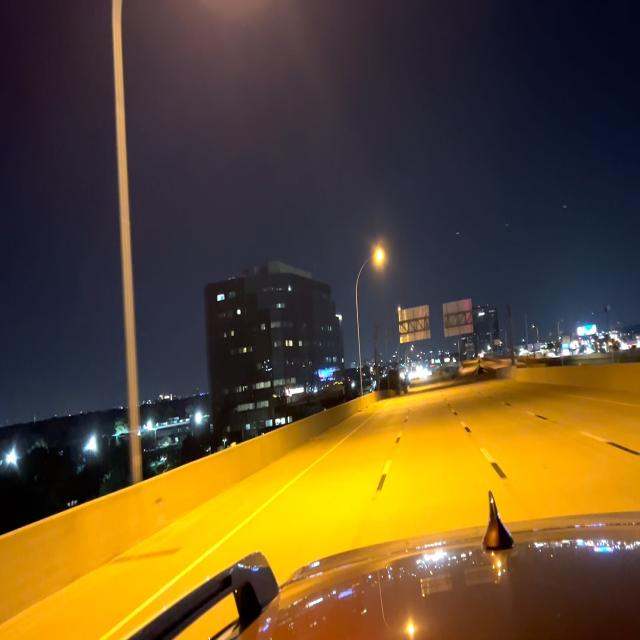back-of-sign: (442, 294, 475, 338), (398, 303, 431, 345)
